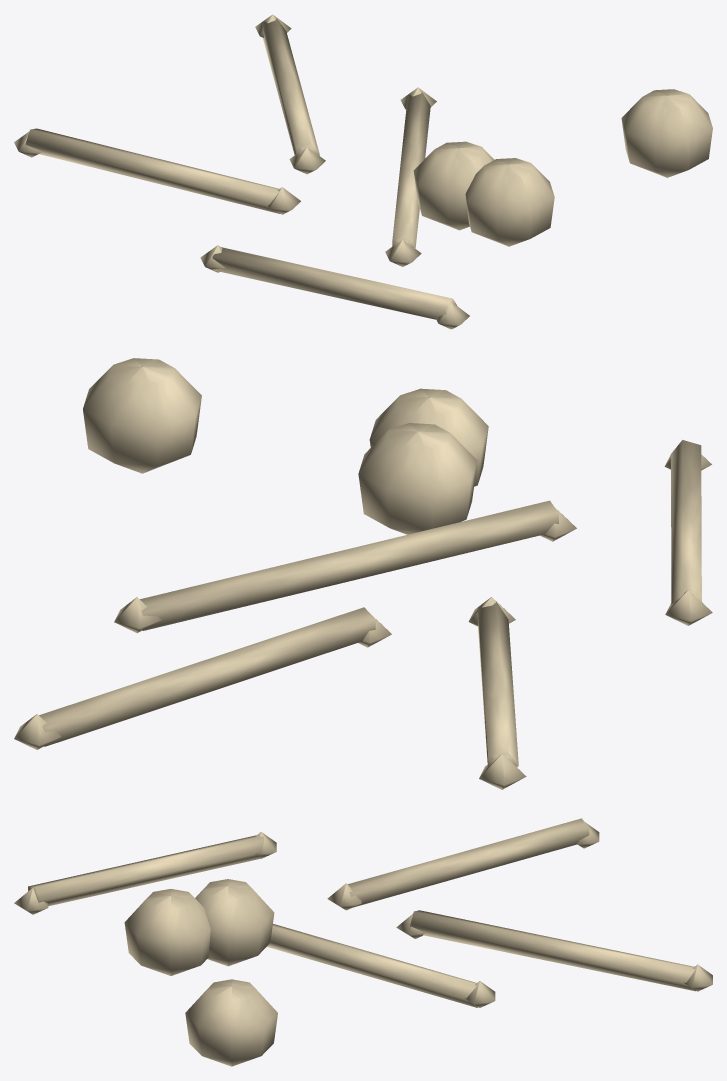
Rendered from Bones_Scatter_1.gltf.
3 renders of one model, top to bottom at view 1: azimuth 30°, elevation 25°; view 2: azimuth 150°, elevation 25°; view 3: azimuth 270°, elevation 25°, orthographic. The views are drawn at different scales.
Visible parts, largest first — view 1: Bones_Scatter_1; view 2: Bones_Scatter_1; view 3: Bones_Scatter_1.
Boxes of the visible parts, box(x1,y1,x2,y2) form: Bones_Scatter_1: box(14, 14, 712, 329); Bones_Scatter_1: box(14, 358, 712, 789); Bones_Scatter_1: box(14, 818, 712, 1066).
Size of the model in its own units: 1.38 by 0.21 by 1.66.
Materials: 1 (1 with a texture image).
